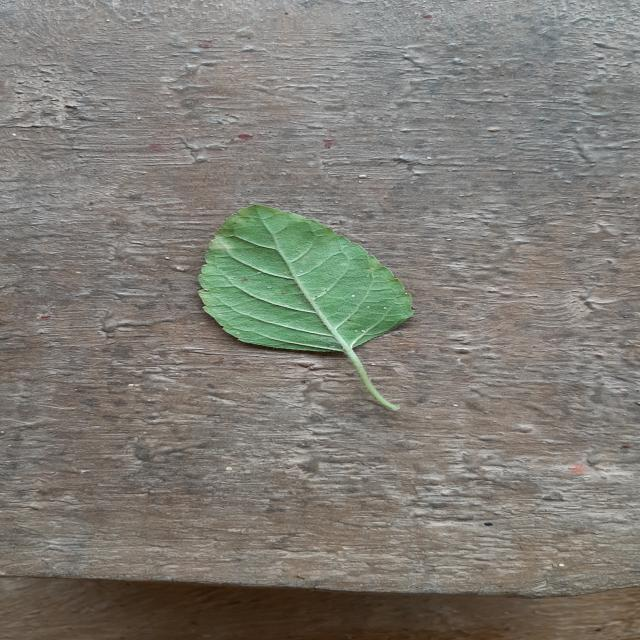defectedtulsi: (201, 206, 322, 350)
tulsi: (198, 205, 412, 405)
